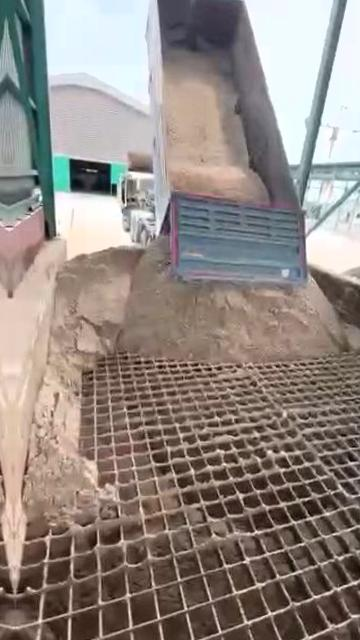sand: (25, 238, 344, 526), (164, 47, 267, 201), (346, 324, 360, 355), (352, 250, 360, 289)
